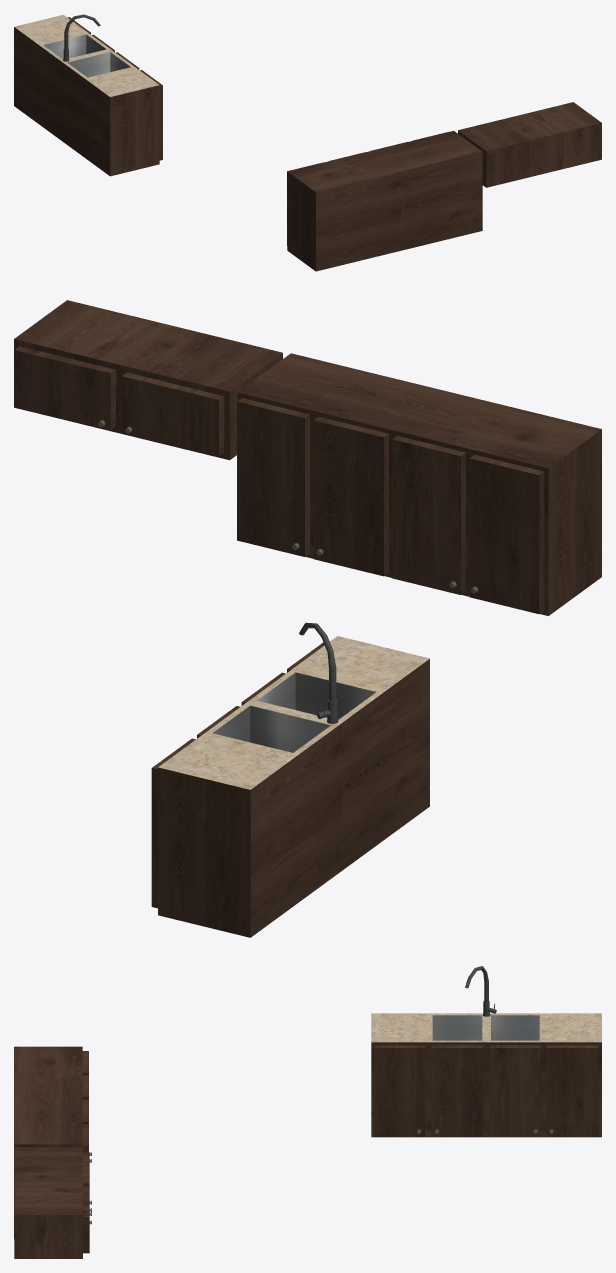
File: Kichen-sink-cabinets.FBX
3 views of the same model, one above another, from view 1: azimuth 30°, elevation 25°; view 2: azimuth 150°, elevation 25°; view 3: azimuth 270°, elevation 25° (orthographic). The views are drawn at different scales.
Parts seen in each view (by area): view 1: kichen-cabinet-top, Sink-Kichen, Kichen-Cabinet-small; view 2: kichen-cabinet-top, Sink-Kichen, Kichen-Cabinet-small; view 3: Sink-Kichen, Kichen-Cabinet-small, kichen-cabinet-top.
Boxes of the visible parts, x1,y1,x2,y2 form: kichen-cabinet-top: (287, 131, 482, 271); Sink-Kichen: (14, 14, 162, 176); Kichen-Cabinet-small: (458, 102, 601, 187); kichen-cabinet-top: (237, 353, 601, 615); Sink-Kichen: (151, 622, 429, 937); Kichen-Cabinet-small: (14, 300, 282, 460); Sink-Kichen: (371, 966, 601, 1137); Kichen-Cabinet-small: (14, 1147, 91, 1258); kichen-cabinet-top: (14, 1046, 91, 1238).
Size of the model in its own units: 110 by 38.34 by 136.
Materials: 6 (6 with a texture image).
